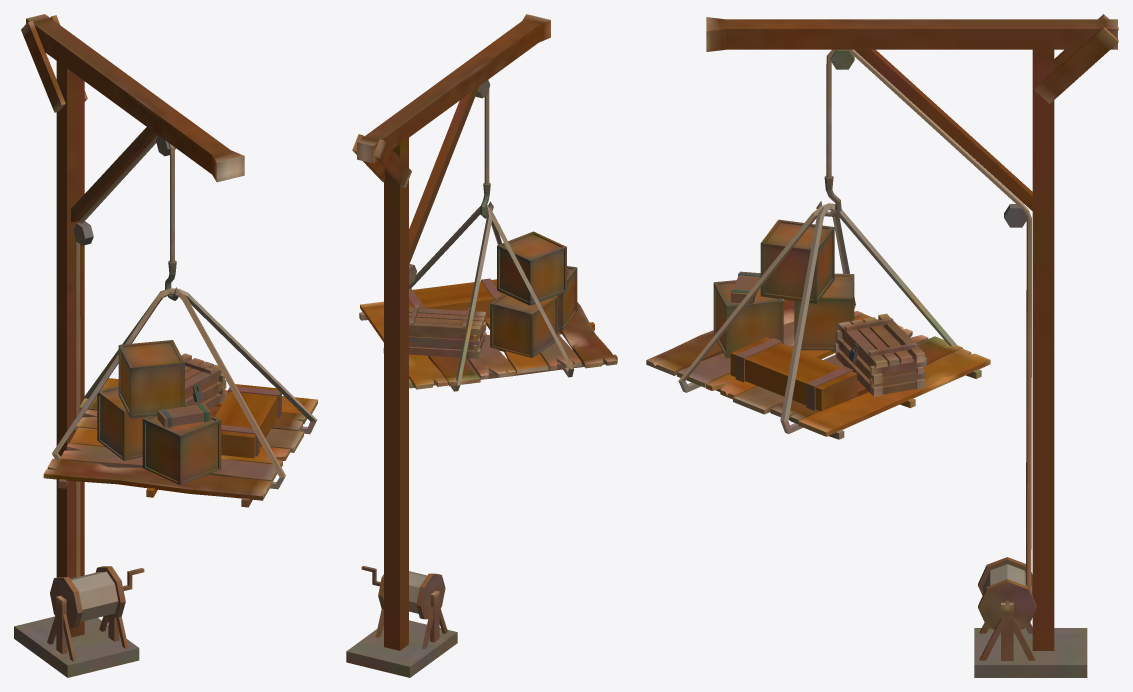
Rendered from mega-pack-cube-002.glb.
3 renders of one model, left to right at view 1: azimuth 30°, elevation 25°; view 2: azimuth 150°, elevation 25°; view 3: azimuth 270°, elevation 25°, orthographic. The views are drawn at different scales.
Visible parts, largest first — view 1: Cube.002; view 2: Cube.002; view 3: Cube.002.
Boxes of the visible parts, x1,y1,x2,y2 form: Cube.002: (14,14,317,677); Cube.002: (346,14,617,677); Cube.002: (646,14,1118,677).
Size of the model in its own units: 3.19 by 6.54 by 4.39.
Materials: 1 (1 with a texture image).
